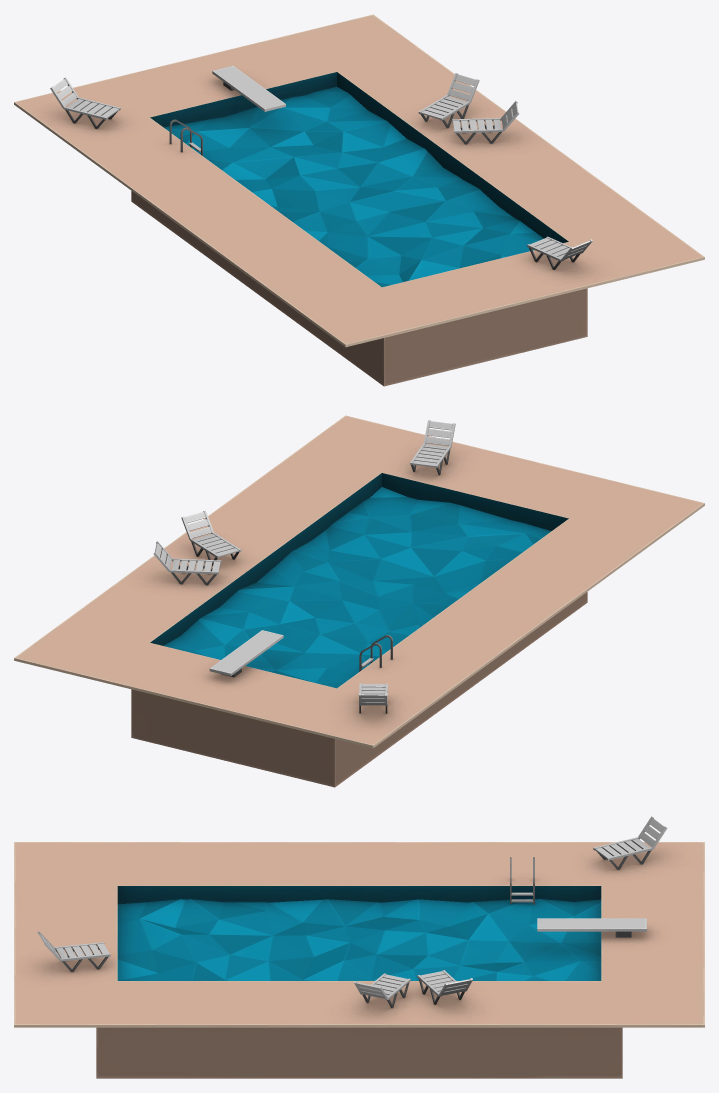
The model's file is Swimming_pool.7bc79039.glb.
3 renders of one model, top to bottom at view 1: azimuth 30°, elevation 25°; view 2: azimuth 150°, elevation 25°; view 3: azimuth 270°, elevation 25°, orthographic. The views are drawn at different scales.
Parts seen in each view (by area): view 1: Node; view 2: Node; view 3: Node.
Part boxes in pixels (<box>): Node: <box>14,14,704,386</box>; Node: <box>14,415,704,787</box>; Node: <box>14,816,704,1078</box>.
Size of the model in its own units: 26.8 by 8.56 by 42.82.
Materials: 1 (1 with a texture image).
